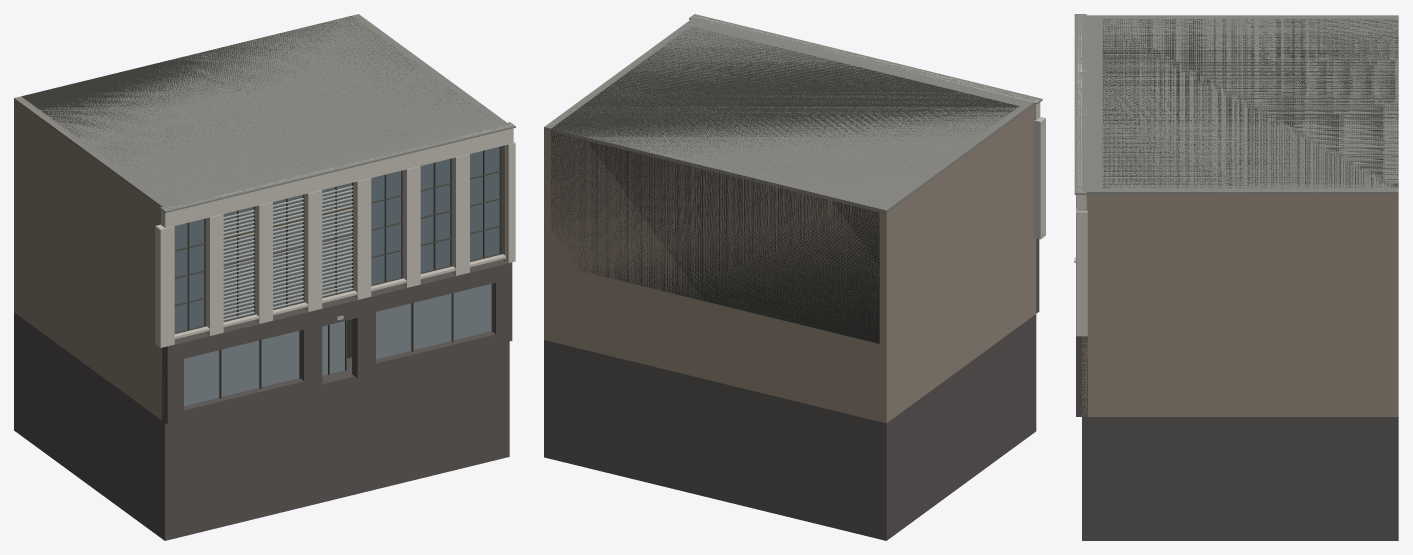
Rendered from michigan_323.glb.
3 views of the same model, side by side, from view 1: azimuth 30°, elevation 25°; view 2: azimuth 150°, elevation 25°; view 3: azimuth 270°, elevation 25° (orthographic). The views are drawn at different scales.
Visible parts, largest first — view 1: Dark polished ground stone, Flat roof and parapet cap, Plain side and rear masonry, Pale stone upper frontage, Separate recessed sash panes, Clear recessed entrance glazing, Opaque interior backing, Dark window sash and doors; view 2: Plain side and rear masonry, Opaque interior backing, Dark polished ground stone, Flat roof and parapet cap, Pale stone upper frontage; view 3: Plain side and rear masonry, Flat roof and parapet cap, Dark polished ground stone, Opaque interior backing, Pale stone upper frontage.
Part boxes in pixels (<box>): Dark polished ground stone: <box>14,259,512,540</box>; Flat roof and parapet cap: <box>14,14,515,212</box>; Plain side and rear masonry: <box>14,14,505,420</box>; Pale stone upper frontage: <box>155,123,515,347</box>; Separate recessed sash panes: <box>174,147,499,332</box>; Clear recessed entrance glazing: <box>184,284,491,405</box>; Opaque interior backing: <box>21,16,487,358</box>; Dark window sash and doors: <box>174,146,501,398</box>; Plain side and rear masonry: <box>544,17,1036,423</box>; Opaque interior backing: <box>551,27,1019,343</box>; Dark polished ground stone: <box>544,238,1039,540</box>; Flat roof and parapet cap: <box>544,14,1042,213</box>; Pale stone upper frontage: <box>690,16,1045,239</box>; Plain side and rear masonry: <box>1082,15,1398,416</box>; Flat roof and parapet cap: <box>1074,14,1398,195</box>; Dark polished ground stone: <box>1076,195,1398,540</box>; Opaque interior backing: <box>1102,19,1398,188</box>; Pale stone upper frontage: <box>1074,15,1087,336</box>.
Size of the model in its own units: 25.14 by 22.5 by 18.95.
